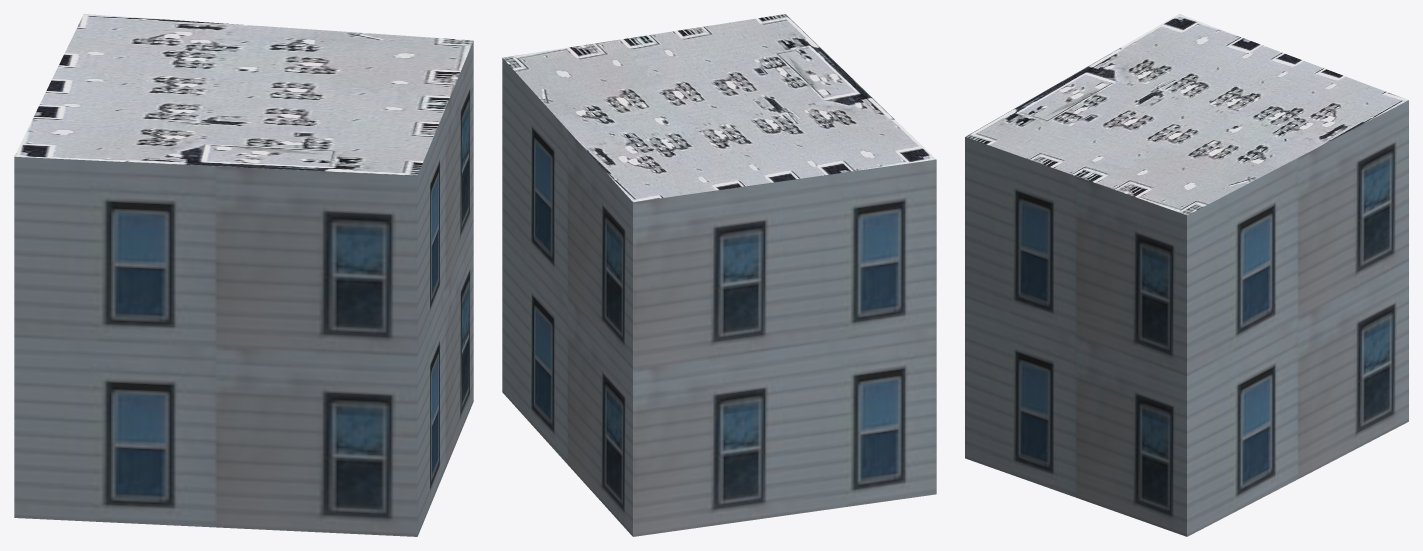
Rendered from ResTex__4798.fbx.
The picture shows the model from 3 angles, left to right: view 1: azimuth 30°, elevation 25°; view 2: azimuth 150°, elevation 25°; view 3: azimuth 270°, elevation 25°; orthographic projection. The views are drawn at different scales.
Visible parts, largest first — view 1: CityEngineMaterial_18_m, CityEngineMaterial_8_m; view 2: CityEngineMaterial_18_m, CityEngineMaterial_8_m; view 3: CityEngineMaterial_18_m, CityEngineMaterial_8_m.
Boxes of the visible parts, x1,y1,x2,y2 form: CityEngineMaterial_18_m: [14, 41, 473, 536]; CityEngineMaterial_8_m: [14, 14, 473, 175]; CityEngineMaterial_18_m: [502, 58, 936, 536]; CityEngineMaterial_8_m: [503, 14, 935, 202]; CityEngineMaterial_18_m: [965, 100, 1408, 536]; CityEngineMaterial_8_m: [965, 14, 1408, 215].
Bounding box in the file's own units: 8.06 × 6 × 7.51.
Materials: 2 (2 with a texture image).
